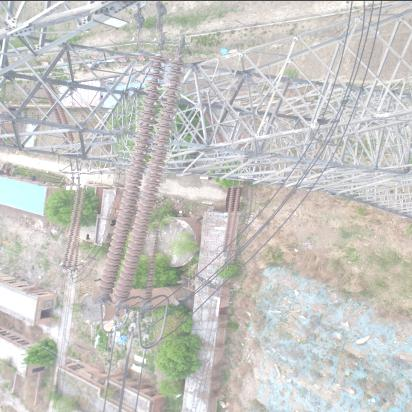insulator: (105, 29, 181, 311), (62, 183, 86, 269)
